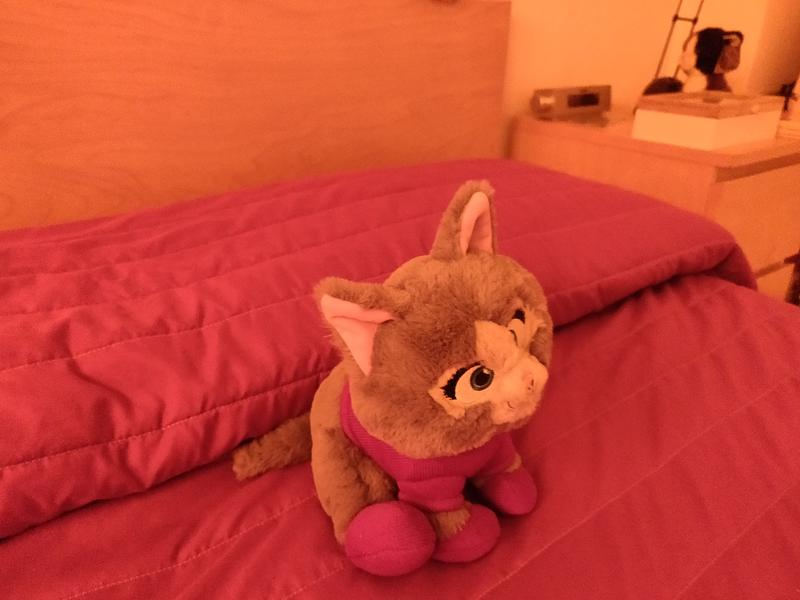kitten: (228, 173, 575, 576)
